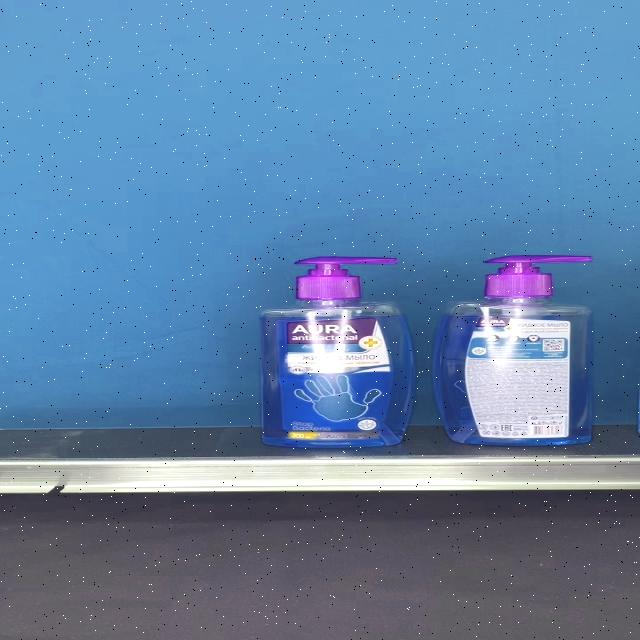Bottle: (434, 255, 594, 446), (258, 257, 415, 448)
Cap: (482, 255, 591, 298), (293, 257, 397, 300)
